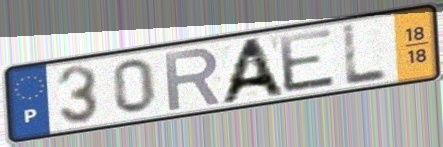0: (110, 56, 160, 117)
3: (55, 62, 101, 128)
A: (215, 34, 289, 107)
E: (275, 26, 340, 96)
L: (341, 21, 392, 88)
R: (161, 45, 223, 113)
